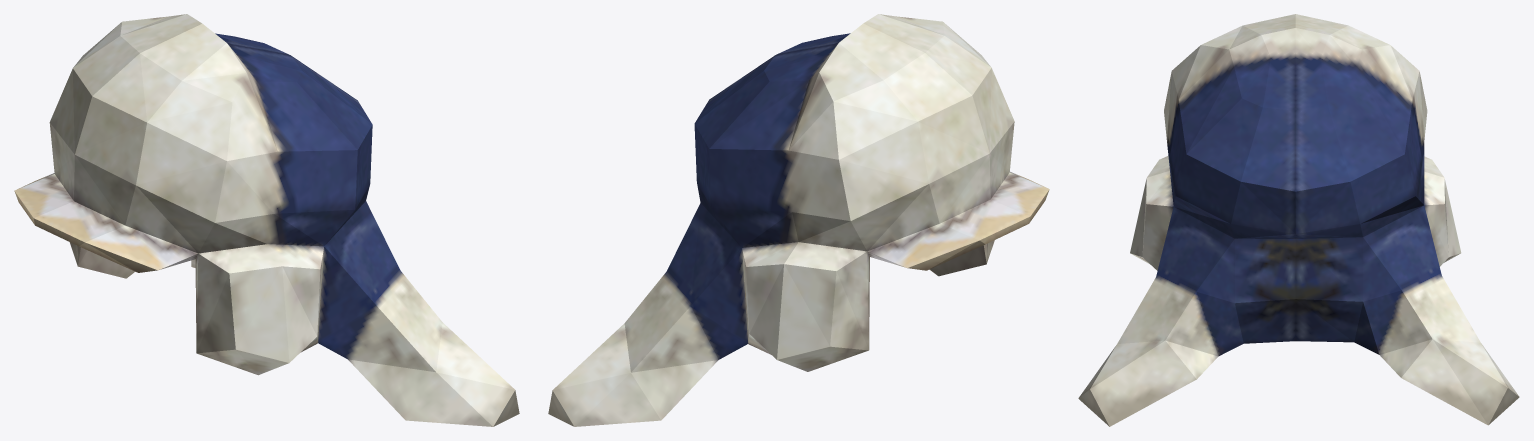
Rendered from Penguin_frostHat.obj.
3 renders of one model, left to right at view 1: azimuth 30°, elevation 25°; view 2: azimuth 150°, elevation 25°; view 3: azimuth 270°, elevation 25°, orthographic. The views are drawn at different scales.
Parts seen in each view (by area): view 1: Penguin_frostHat_tri; view 2: Penguin_frostHat_tri; view 3: Penguin_frostHat_tri.
Boxes of the visible parts, left/top/right/bottom form: Penguin_frostHat_tri: left=14, top=14, right=519, bottom=426; Penguin_frostHat_tri: left=548, top=14, right=1049, bottom=426; Penguin_frostHat_tri: left=1078, top=14, right=1519, bottom=426.
Size of the model in its own units: 0.5624 by 0.5149 by 0.6617.
Materials: 1 (1 with a texture image).
